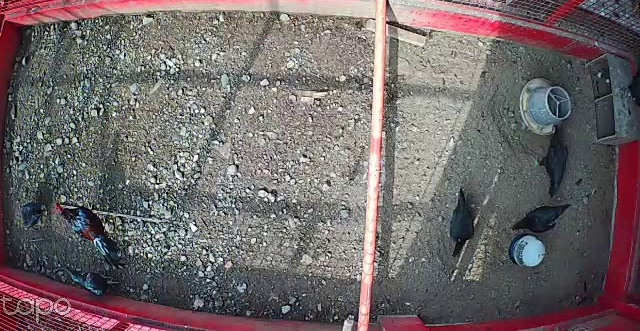Chicken: (528, 123, 571, 196), (510, 198, 574, 236), (450, 186, 476, 261), (65, 266, 120, 298), (18, 199, 49, 230)
Drinker: (508, 231, 547, 268)
Feeder: (520, 77, 573, 135)
Leg_Band_Green: (535, 160, 540, 167)
Rooster: (52, 200, 125, 272)
